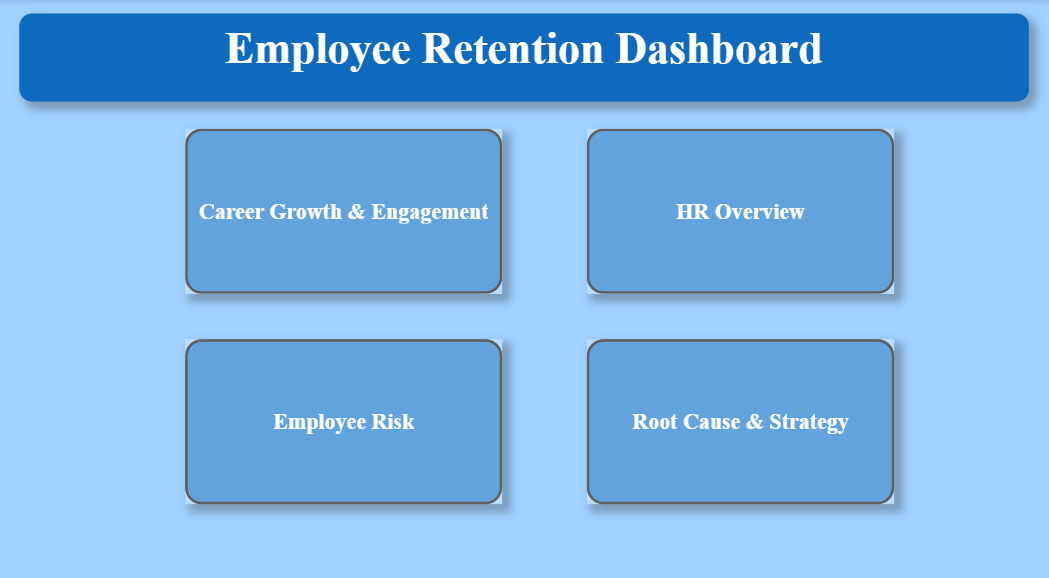

Layout of this report page (visuals, bound fields, positions):
{"tool":"powerbi","page":{"name":"Home","canvas":[1280,720],"ordinal":0},"visuals":[{"type":"textbox","box":[26.3,19,1226.3,106.8],"z":1000},{"type":"actionButton","box":[715.6,159.5,373.2,200.5],"z":5500},{"type":"actionButton","box":[228.3,159.5,384.9,200.5],"z":6000},{"type":"actionButton","box":[228.3,415.6,384.9,200.5],"z":6500},{"type":"actionButton","box":[715.6,415.6,373.2,200.5],"z":7000}]}

Visuals, with their boxes in screenshot pixels (x1, y1, x2, y2), scaled from the page's 1280x720 canvas onto the 1049x578 screenshot:
textbox: <bbox>22, 15, 1027, 101</bbox>
actionButton: <bbox>586, 128, 892, 289</bbox>
actionButton: <bbox>187, 128, 503, 289</bbox>
actionButton: <bbox>187, 334, 503, 495</bbox>
actionButton: <bbox>586, 334, 892, 495</bbox>
